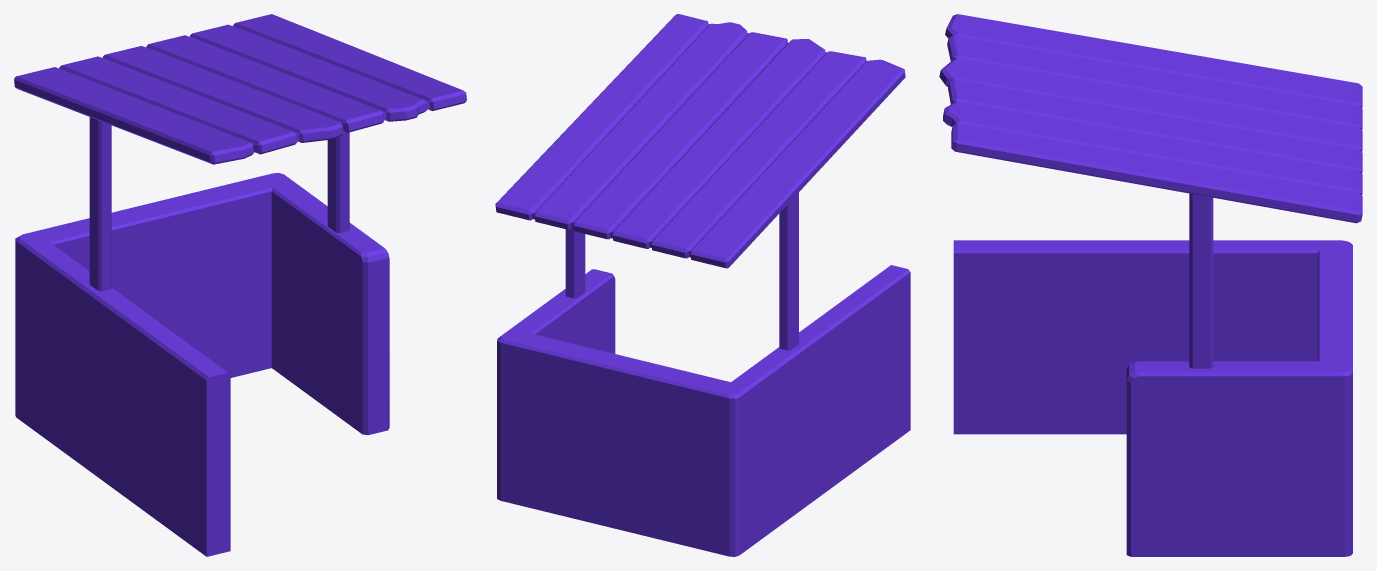
The model's file is EntradaExterior.fbx.
The picture shows the model from 3 angles, left to right: view 1: azimuth 30°, elevation 25°; view 2: azimuth 150°, elevation 25°; view 3: azimuth 270°, elevation 25°; orthographic projection. The views are drawn at different scales.
Visible parts, largest first — view 1: ENTRADA EXTERIOR.003; view 2: ENTRADA EXTERIOR.003; view 3: ENTRADA EXTERIOR.003.
Boxes of the visible parts, bbox=[...] form: ENTRADA EXTERIOR.003: bbox=[14, 14, 466, 556]; ENTRADA EXTERIOR.003: bbox=[495, 14, 910, 556]; ENTRADA EXTERIOR.003: bbox=[939, 14, 1362, 556].
Size of the model in its own units: 315 by 451 by 418.
